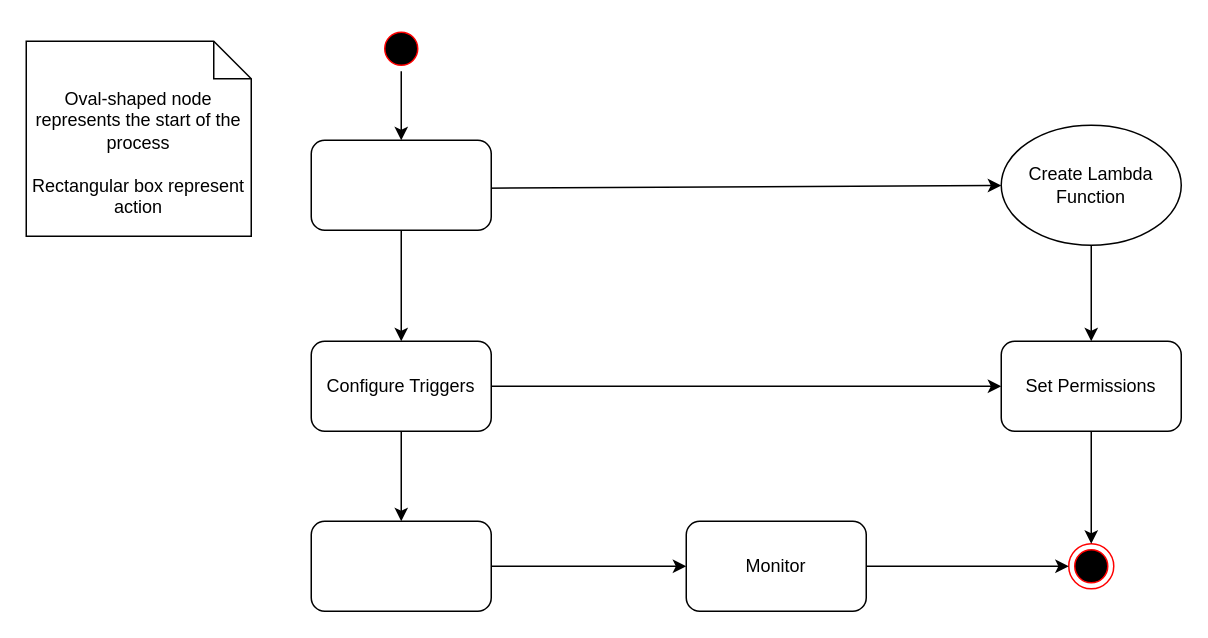
This 1208x638 diagram has some shape labels left out. Each missing label, with the centre of its shape:
Deploy: point (400, 565)
Start: point (400, 184)
